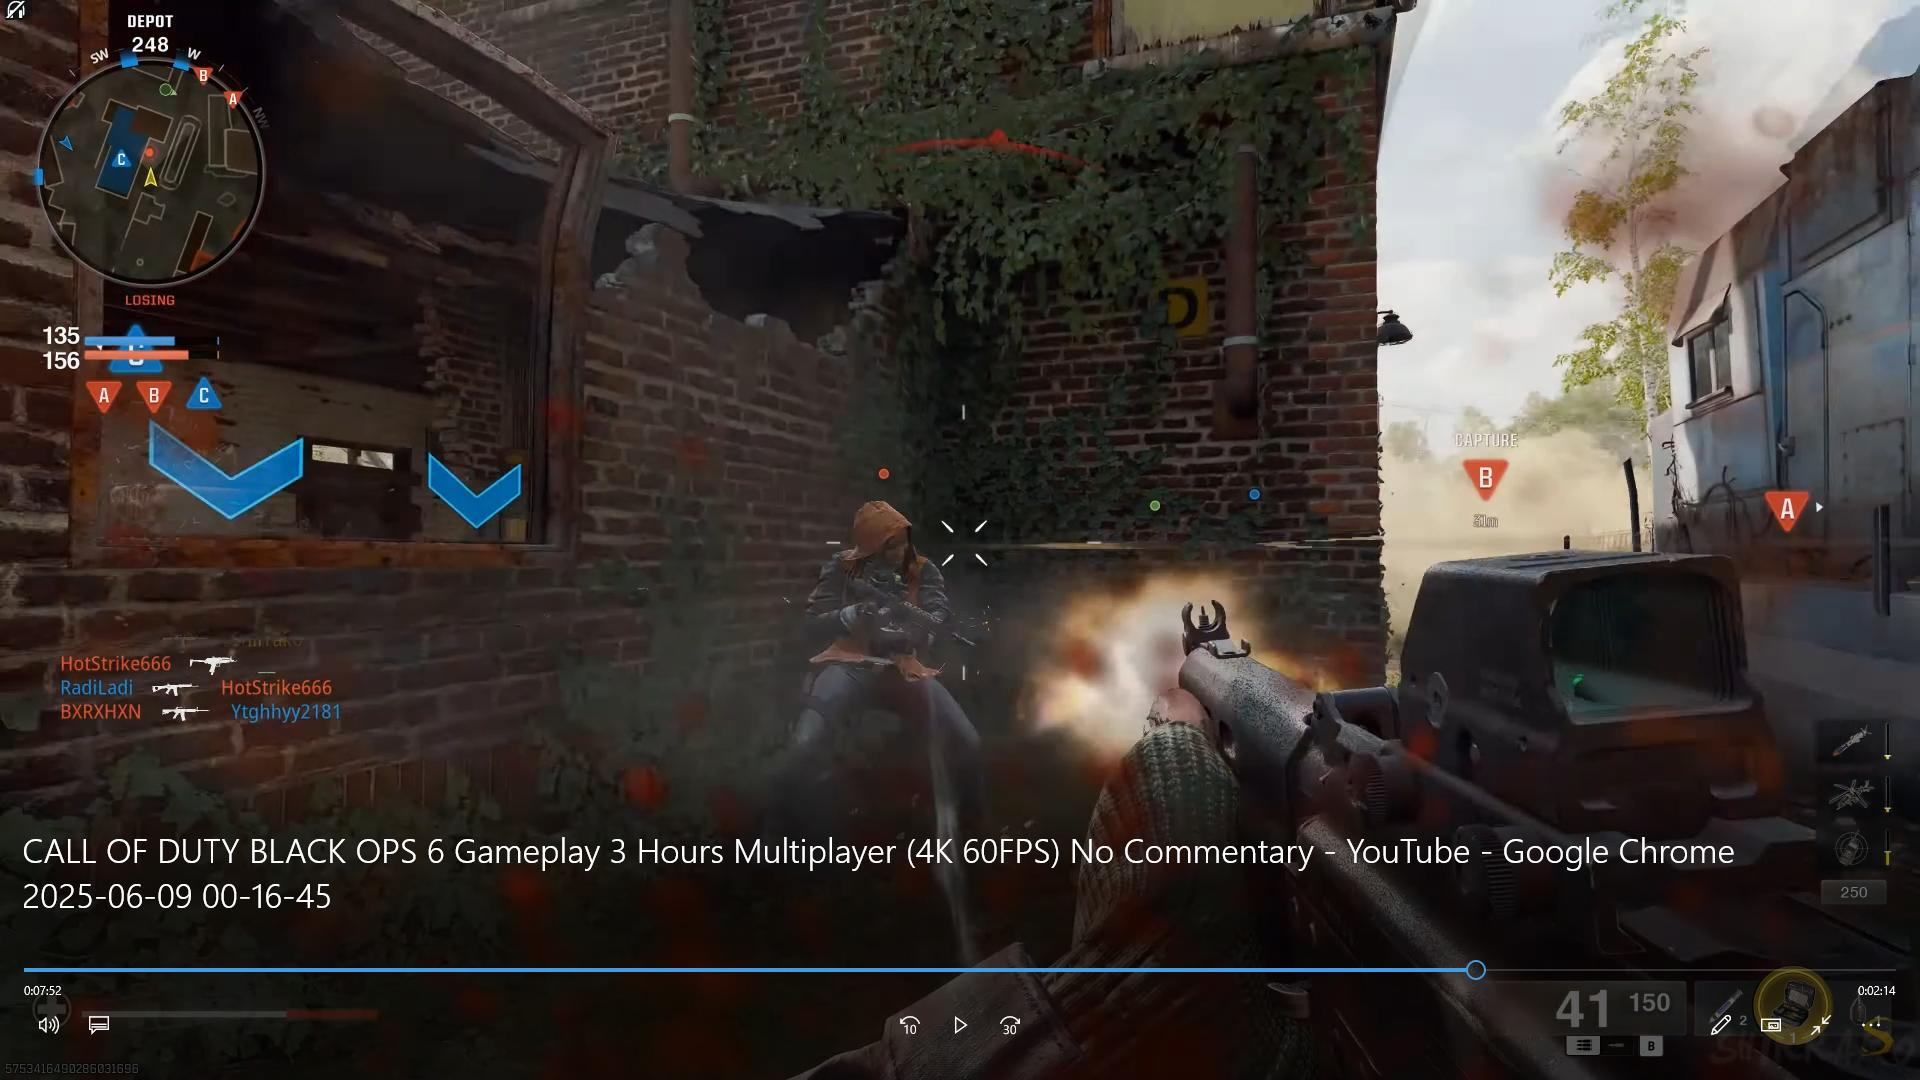Enemy: (802, 487, 956, 771)
